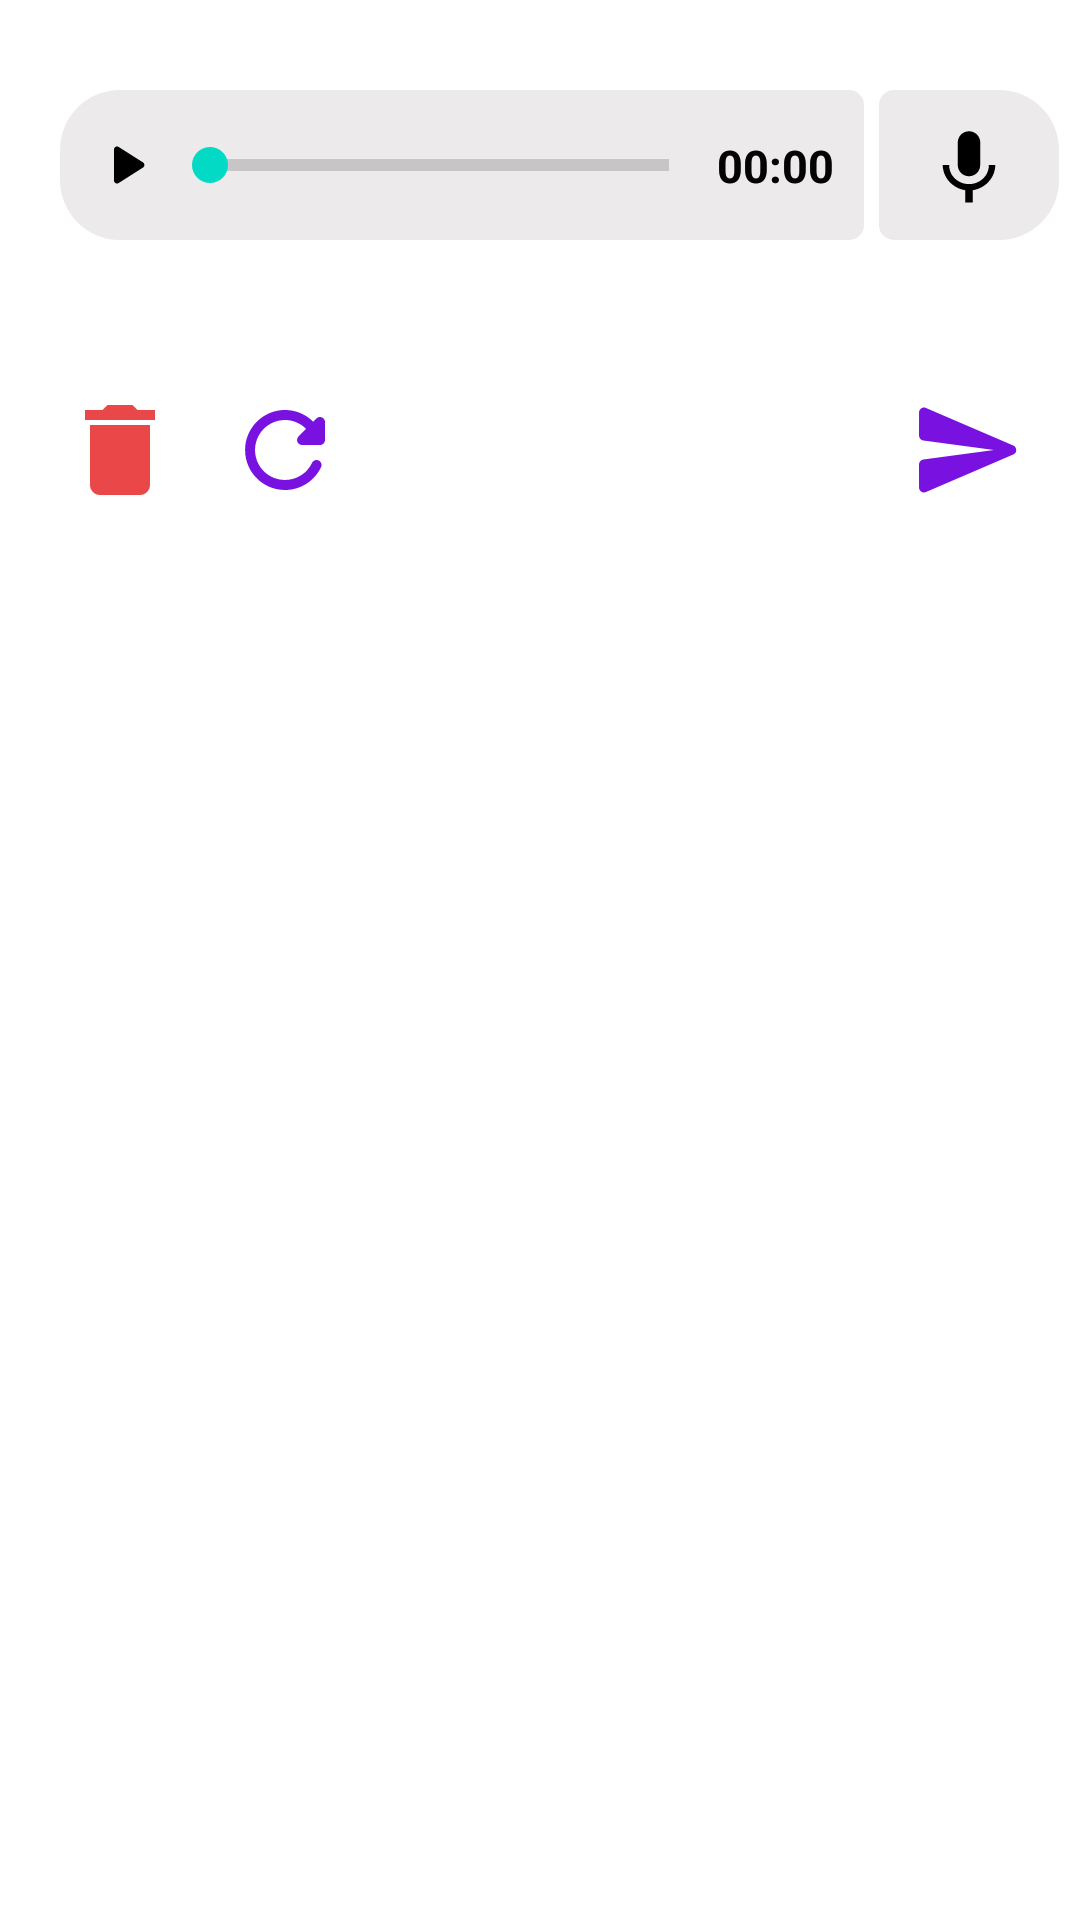

Locate icon controls on the screen. Image size 1080*1920, boxes as (x1, y1, x2, y2).
play arrow: (114, 146, 145, 184)
refresh: (245, 410, 325, 490)
send: (919, 407, 1017, 493)
